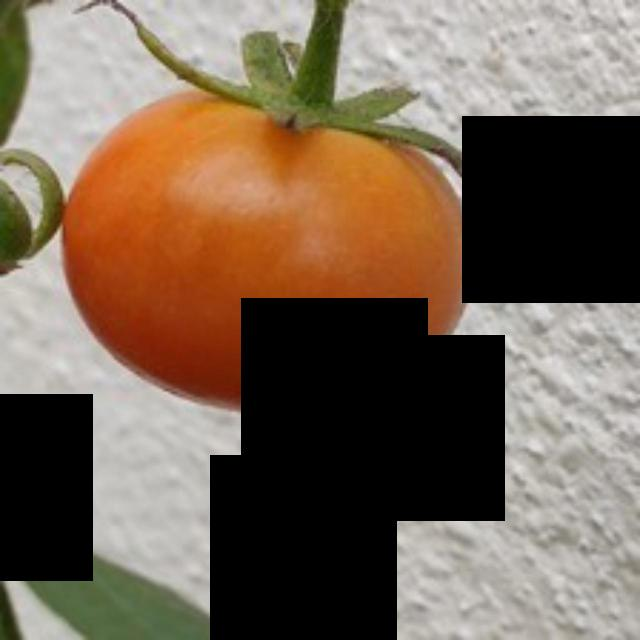tomato: (53, 59, 490, 418)
